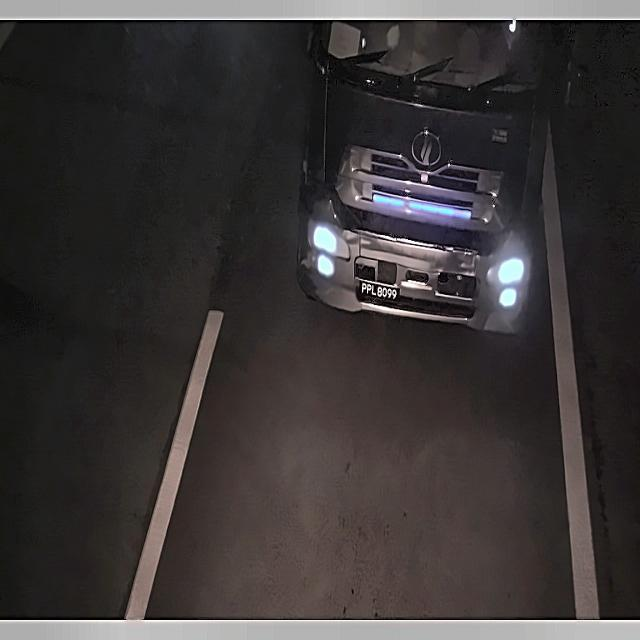car: (353, 281, 406, 308)
